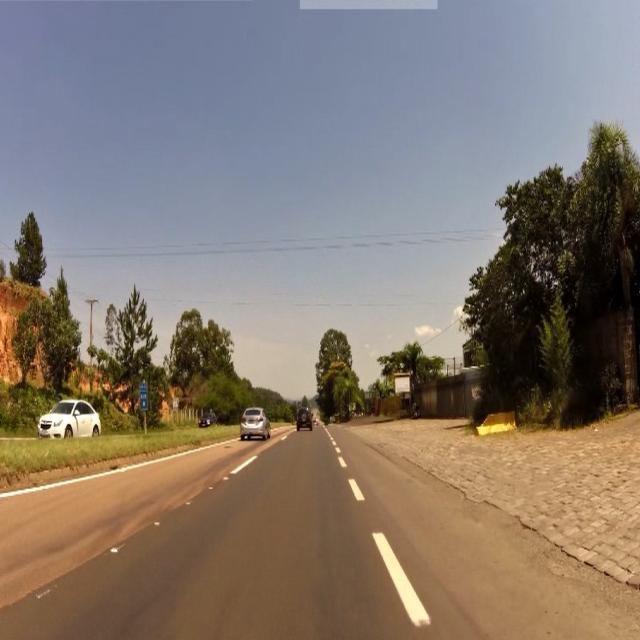RQ: (140, 381, 150, 414)
